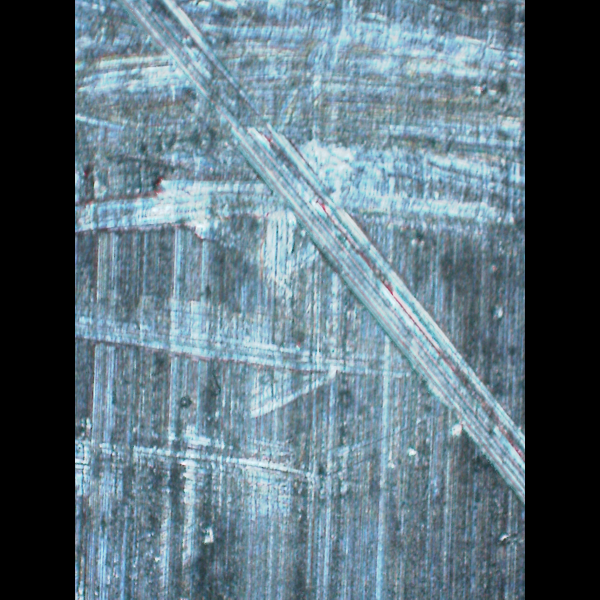d: (77, 1, 525, 237), (78, 288, 385, 545), (358, 266, 525, 518)
